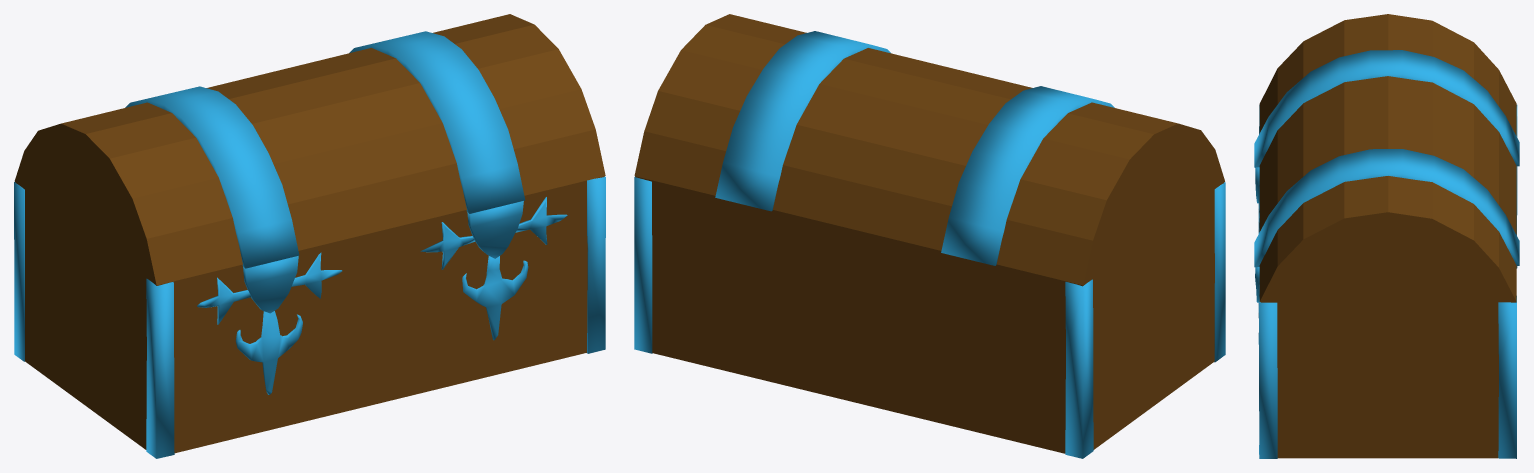
File: truhla_v1-oprava2.fbx
3 renders of one model, left to right at view 1: azimuth 30°, elevation 25°; view 2: azimuth 150°, elevation 25°; view 3: azimuth 270°, elevation 25°, orthographic. The views are drawn at different scales.
Parts seen in each view (by area): view 1: BOX, VIKO; view 2: BOX, VIKO; view 3: VIKO, BOX.
Part boxes in pixels (x1,y1,x2,y2): BOX: [14, 176, 605, 458]; VIKO: [14, 14, 605, 285]; BOX: [634, 176, 1225, 458]; VIKO: [634, 14, 1224, 285]; VIKO: [1254, 14, 1519, 301]; BOX: [1255, 105, 1517, 458].
Size of the model in its own units: 179 by 105 by 101.
